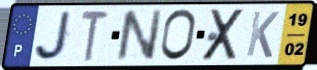J: (33, 10, 75, 63)
K: (244, 9, 281, 60)
N: (115, 8, 165, 64)
O: (158, 7, 199, 63)
T: (79, 9, 111, 64)
X: (199, 7, 248, 63)
